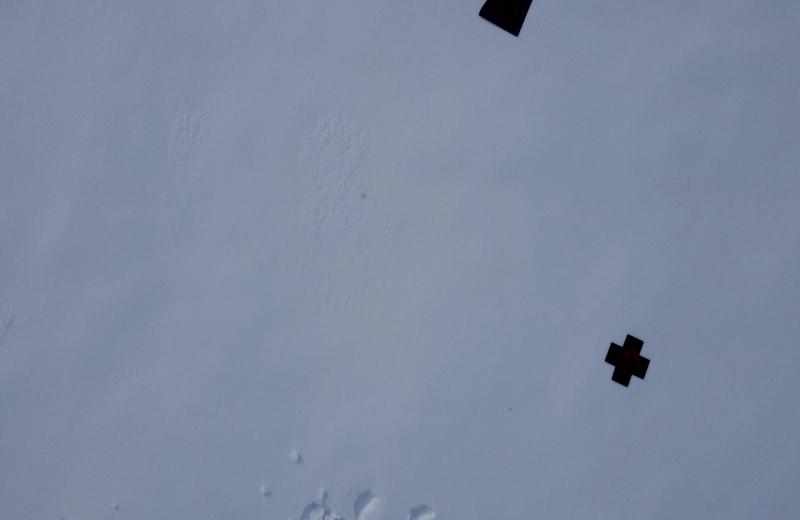Cross: (605, 334, 651, 389)
Quarter Circle: (476, 0, 532, 39)
